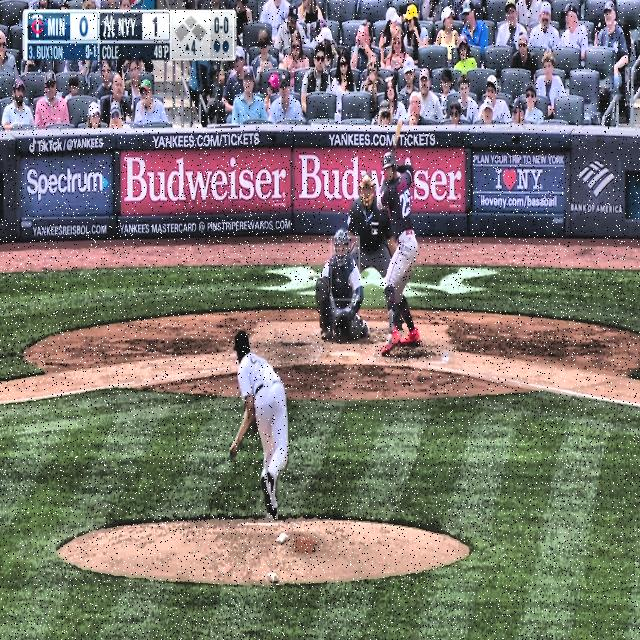baseball: (308, 268, 314, 280)
